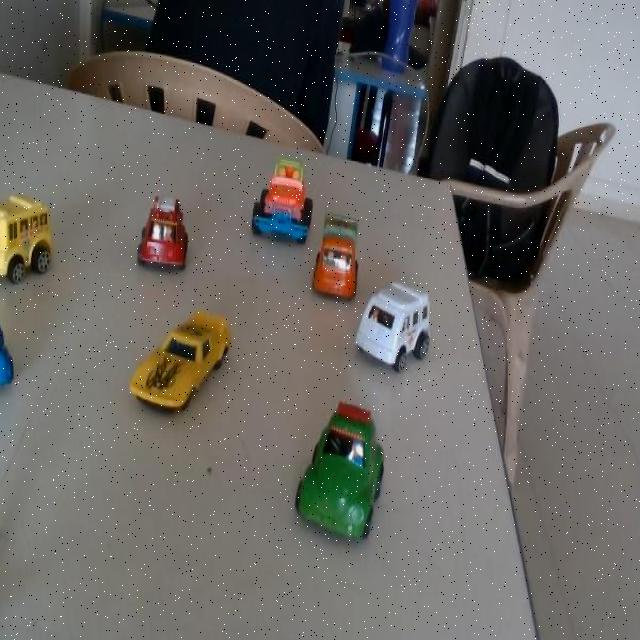car: (261, 381, 444, 599), (336, 249, 463, 406), (117, 301, 256, 428), (237, 147, 316, 247), (307, 200, 373, 314), (0, 194, 66, 295), (133, 190, 202, 286), (0, 290, 21, 407)
